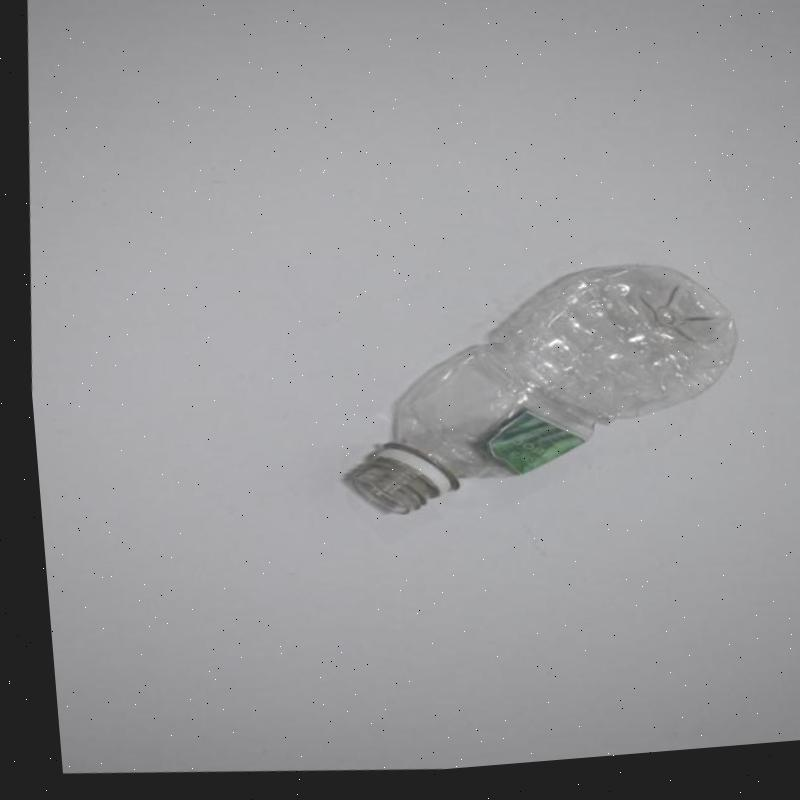botella: (313, 245, 748, 551)
